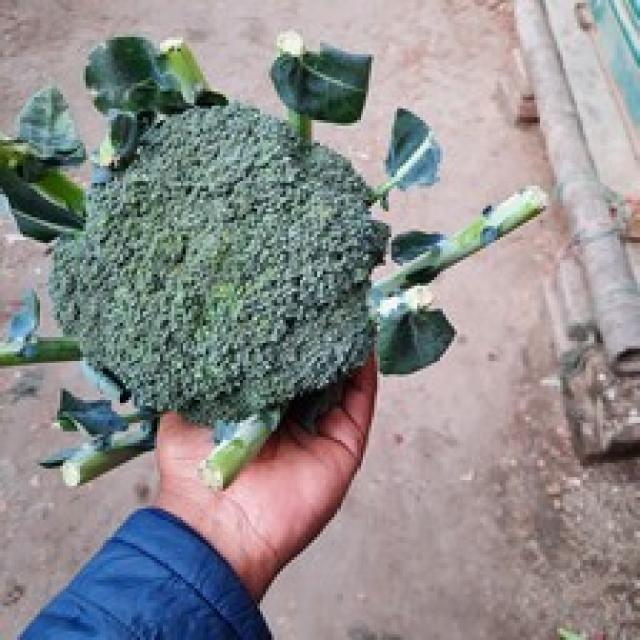Broccoli: (50, 104, 386, 422)
